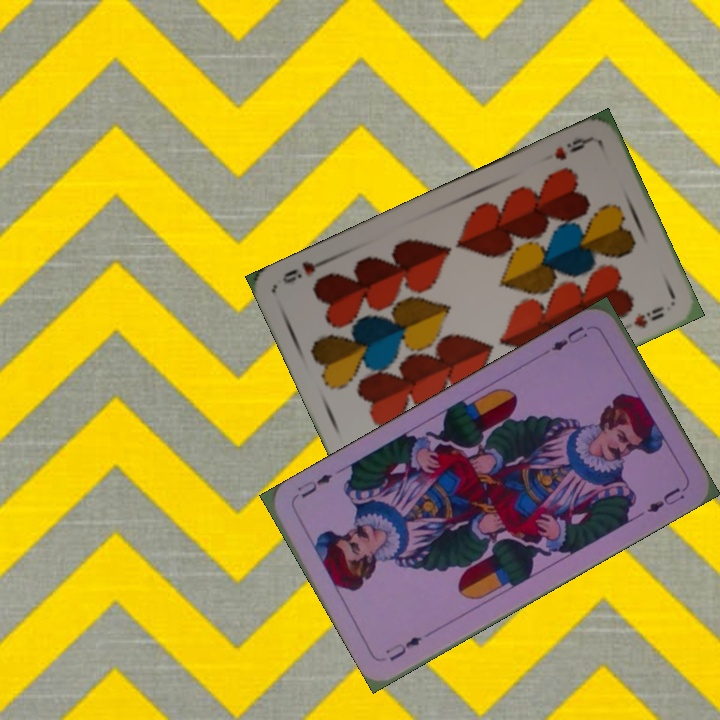EU: (546, 322, 591, 354), (381, 632, 425, 664)
H9: (550, 133, 595, 163)
